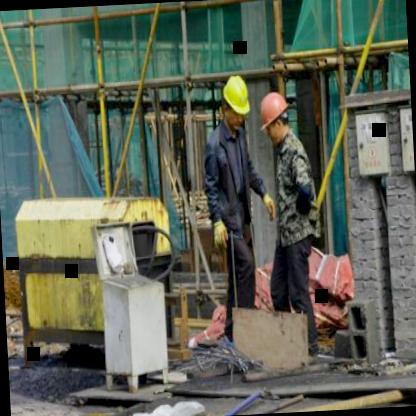helmet: (258, 88, 294, 144), (218, 72, 252, 130)
